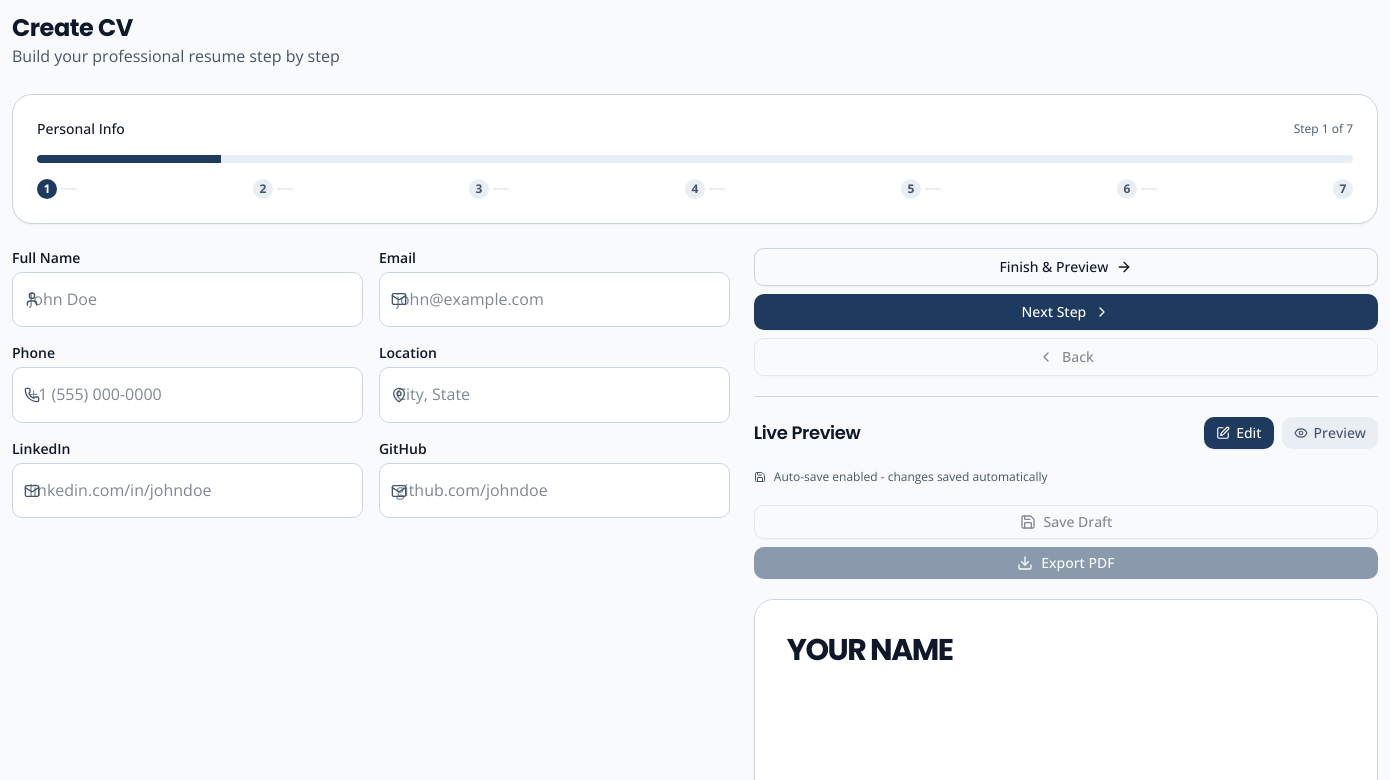
Scenario: API-wired pages › updates the live preview as the user types
The width and height of the screenshot is (1390, 780).
In the field labelled "Full Name": coordinates (187, 299) [12,272,363,327], type "Ada Lovelace"
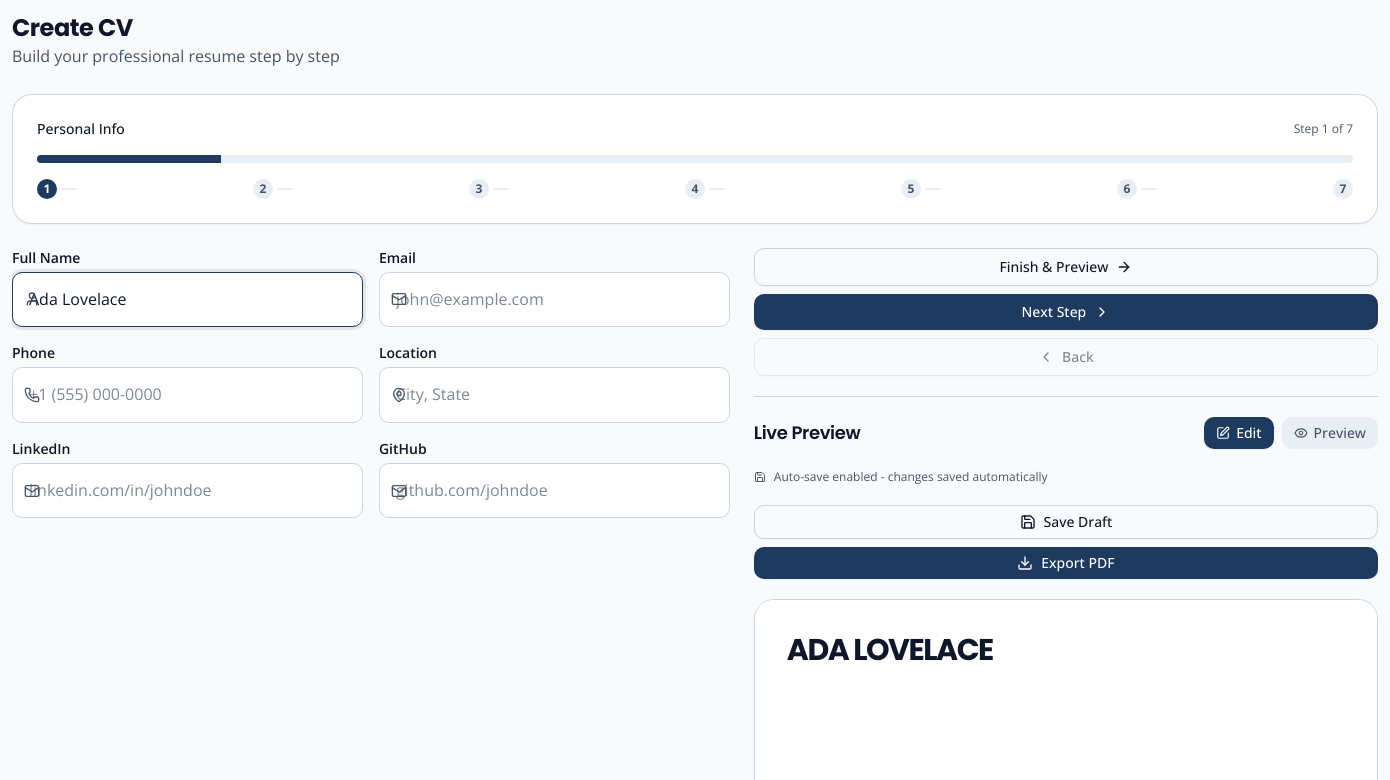
Now the heading "Ada Lovelace" is shown, box [787,629,993,671]
